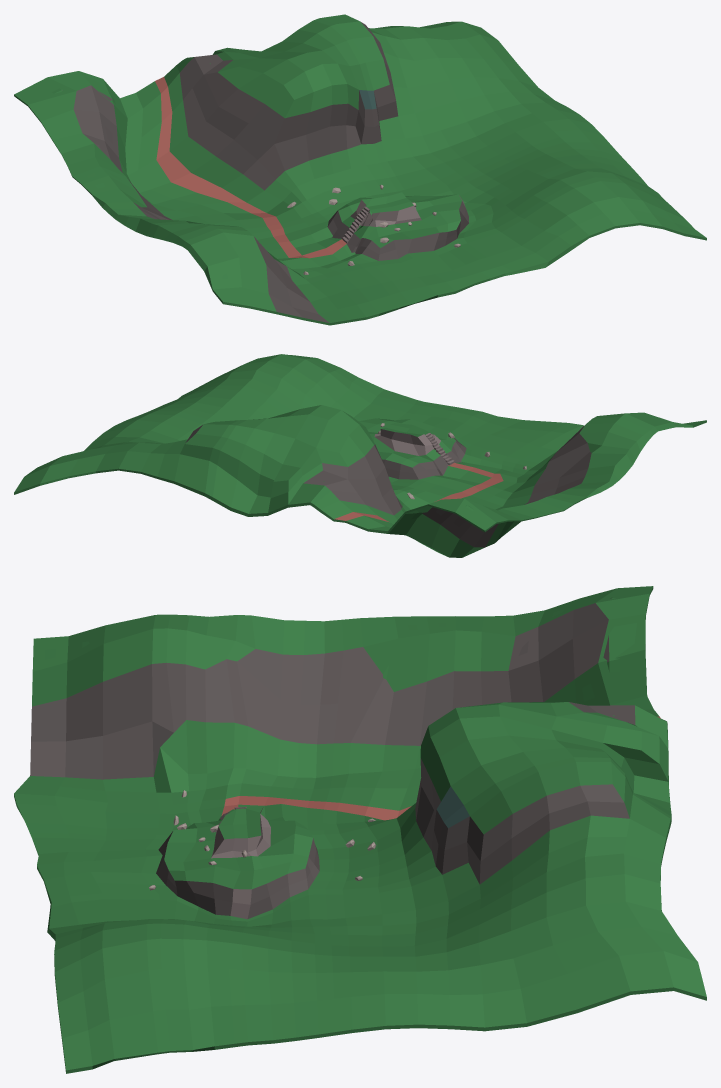
Rendered from Ground_Greek.fbx.
The picture shows the model from 3 angles, top to bottom: view 1: azimuth 30°, elevation 25°; view 2: azimuth 150°, elevation 25°; view 3: azimuth 270°, elevation 25°; orthographic projection. The views are drawn at different scales.
Parts seen in each view (by area): view 1: Ground_Greek; view 2: Ground_Greek; view 3: Ground_Greek.
Part boxes in pixels (bbox=[...]): Ground_Greek: bbox=[14, 14, 706, 325]; Ground_Greek: bbox=[14, 354, 706, 557]; Ground_Greek: bbox=[14, 586, 706, 1073].
Bounding box in the file's own units: 3990 × 3408 × 1026.
